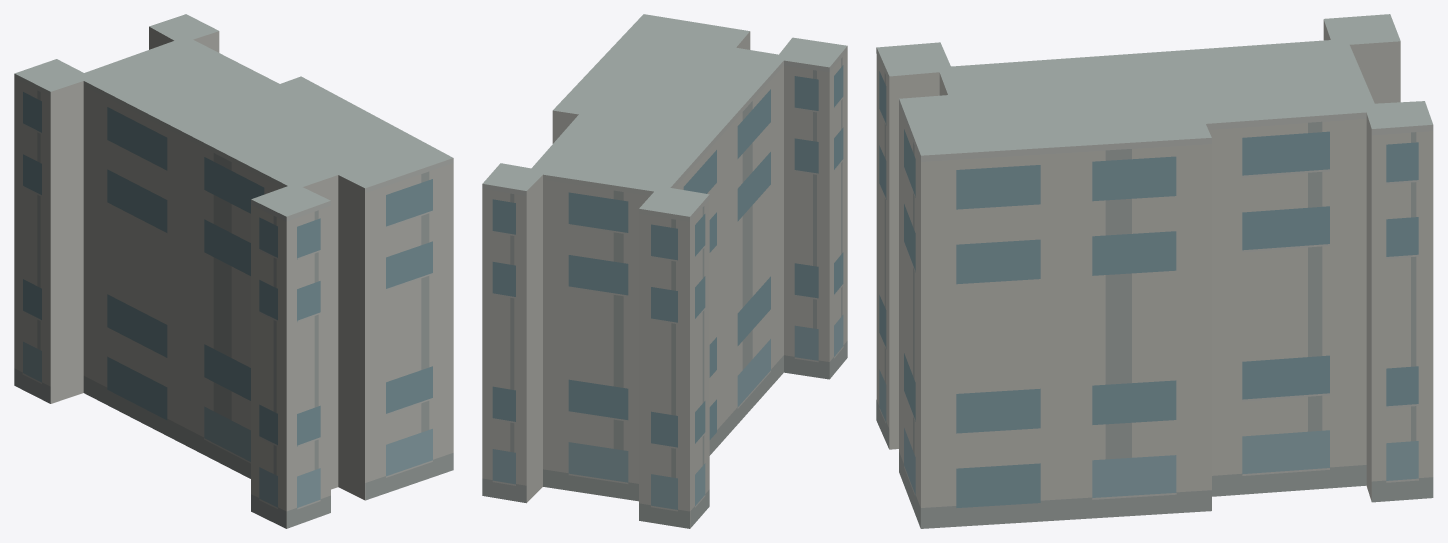
File: survey-upis-32965450.glb
The picture shows the model from 3 angles, left to right: view 1: azimuth 30°, elevation 25°; view 2: azimuth 150°, elevation 25°; view 3: azimuth 270°, elevation 25°; orthographic projection. The views are drawn at different scales.
Parts seen in each view (by area): view 1: survey-upis-32965450.tmp; view 2: survey-upis-32965450.tmp; view 3: survey-upis-32965450.tmp.
Part boxes in pixels (x1=…): survey-upis-32965450.tmp: x1=14, y1=14, x2=453, y2=528; survey-upis-32965450.tmp: x1=482, y1=14, x2=847, y2=528; survey-upis-32965450.tmp: x1=876, y1=14, x2=1433, y2=528.
Bounding box in the file's own units: 12.05 × 14.8 × 20.02.
